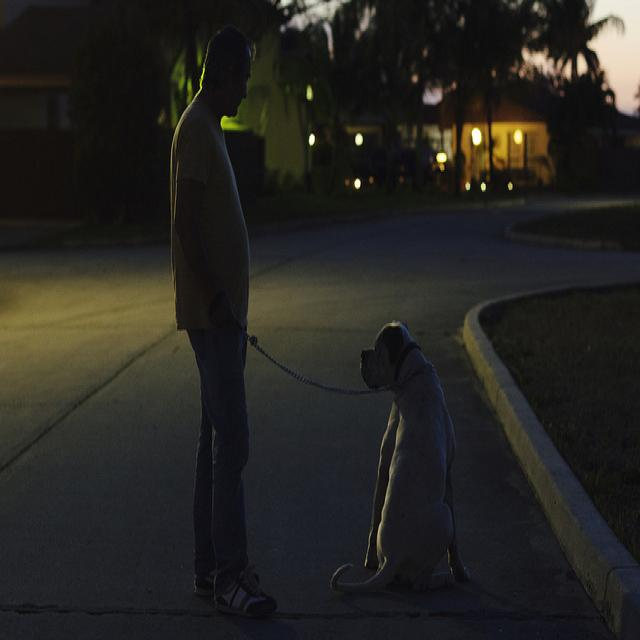Dog: (334, 310, 501, 626)
